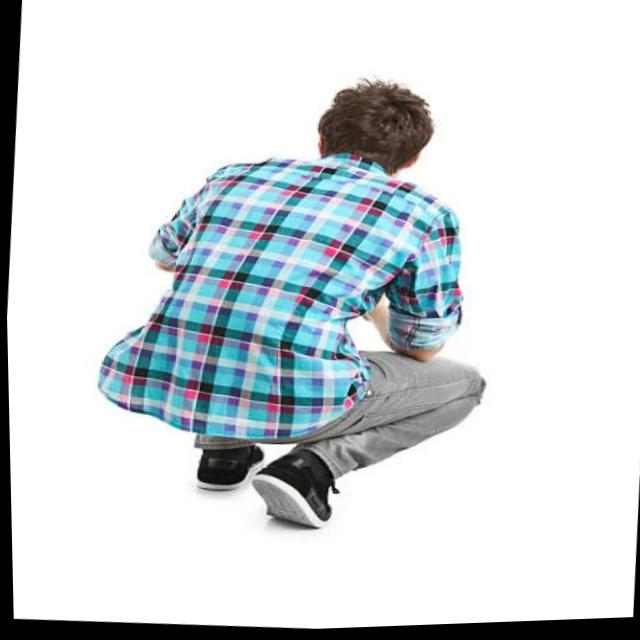no helmet: (311, 70, 443, 189)
